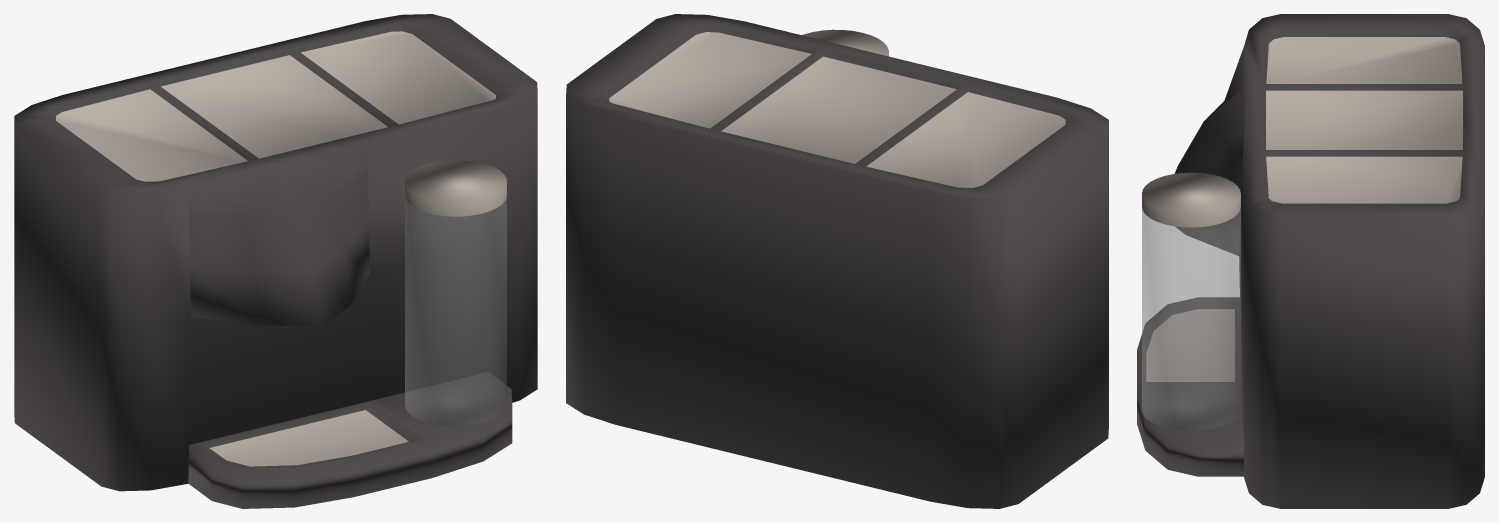
Rendered from Kaffemaschine.fbx.
The picture shows the model from 3 angles, left to right: view 1: azimuth 30°, elevation 25°; view 2: azimuth 150°, elevation 25°; view 3: azimuth 270°, elevation 25°; orthographic projection. The views are drawn at different scales.
Parts seen in each view (by area): view 1: Cube.004, Cube.005, Cylinder; view 2: Cube.004, Cylinder; view 3: Cube.004, Cylinder, Cube.005.
Boxes of the visible parts, x1=… form: Cube.004: x1=14, y1=14, x2=537, y2=491; Cube.005: x1=188, y1=371, x2=512, y2=508; Cylinder: x1=405, y1=160, x2=506, y2=426; Cube.004: x1=566, y1=14, x2=1108, y2=508; Cylinder: x1=802, y1=29, x2=888, y2=56; Cube.004: x1=1174, y1=14, x2=1484, y2=508; Cylinder: x1=1142, y1=172, x2=1240, y2=430; Cube.005: x1=1137, y1=297, x2=1243, y2=476.
Bounding box in the file's own units: 47.79 × 31.53 × 34.08.
